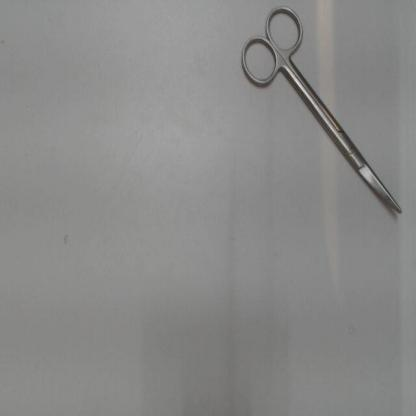Curved Mayo Scissors: (236, 2, 405, 222)
